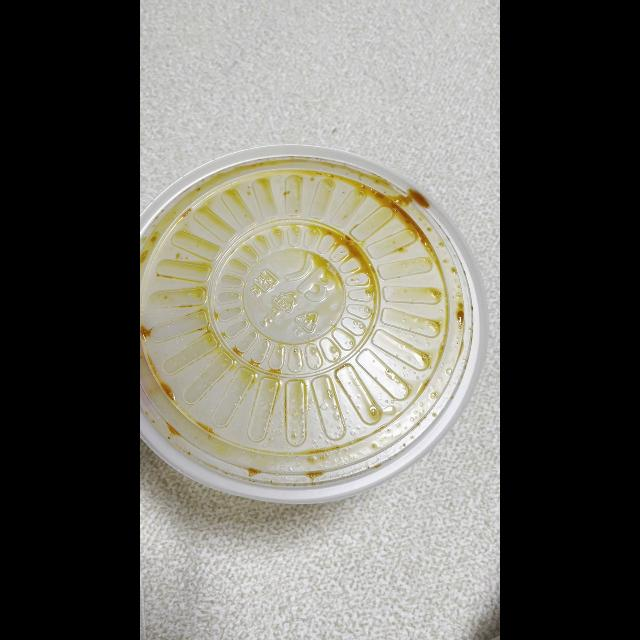dirty: (141, 146, 483, 488)
